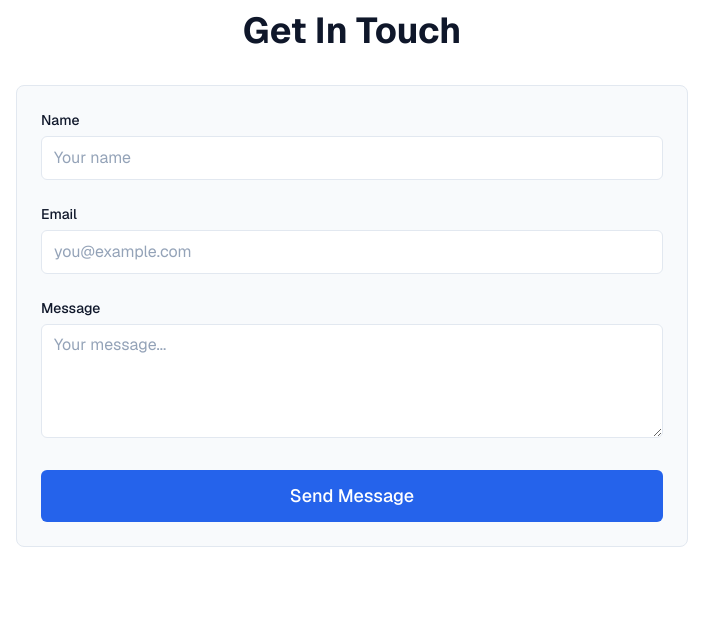
Test: Contact › clears field error when user edits that field
This screenshot has width=705, height=642.
Note: Submit to trigger errors
Click the button "Send Message" at (352, 496), box [41,470,663,522]
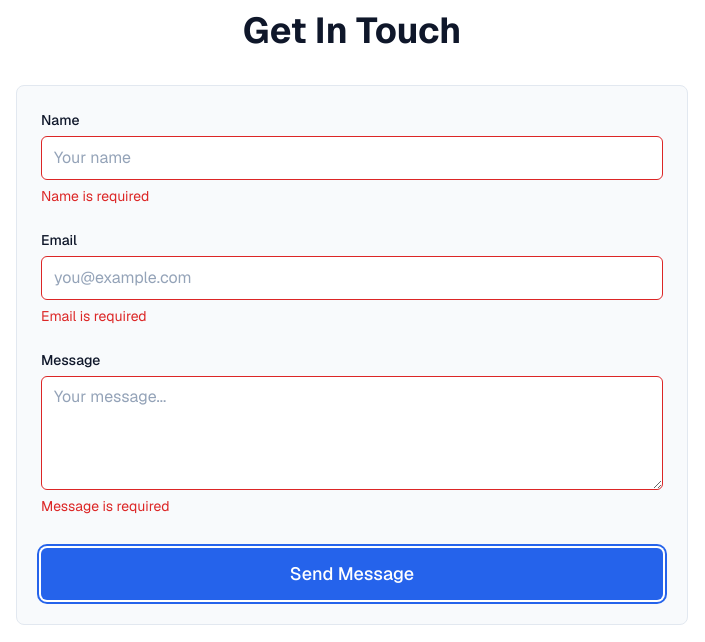
Now the text "Name is required" is shown, box [41,187,149,205]
Note: Type in name field — error should clear
Type "A" into the field labelled "Name" at (352, 158), box [41,136,663,180]
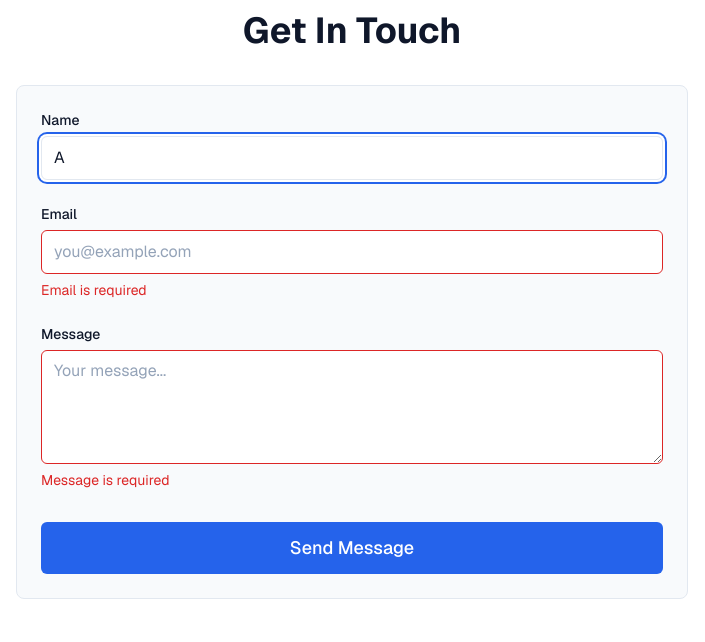
Now the text "Name is required" is gone
